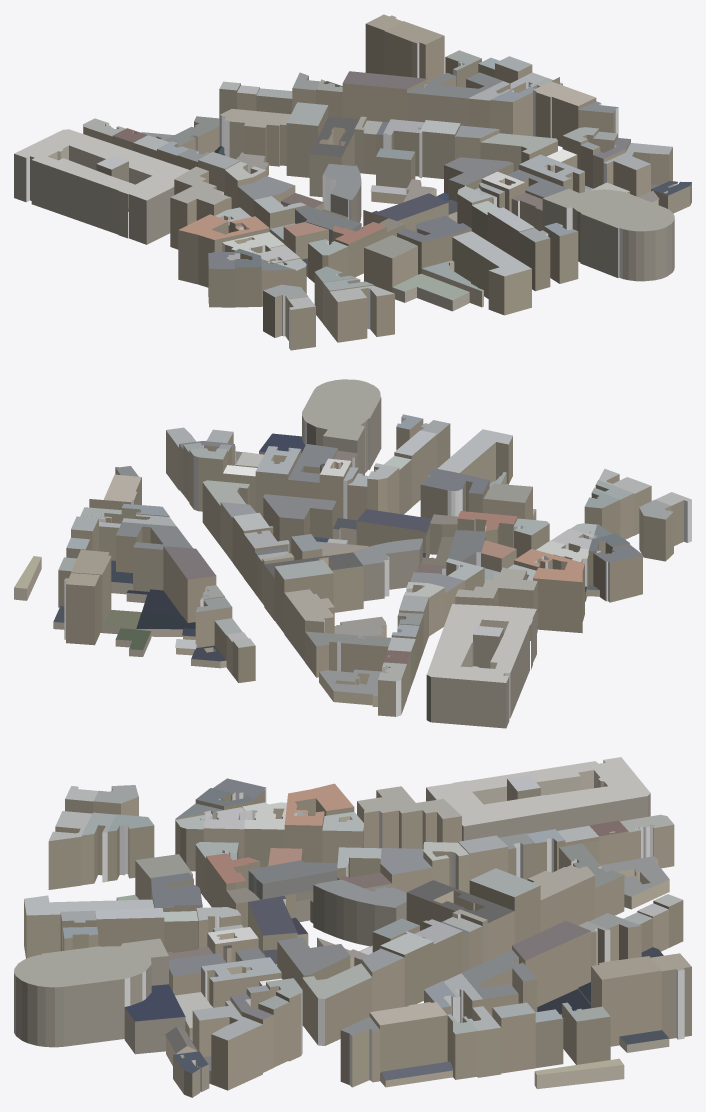
3 views of the same model, one above another, from view 1: azimuth 30°, elevation 25°; view 2: azimuth 150°, elevation 25°; view 3: azimuth 270°, elevation 25° (orthographic). The views are drawn at different scales.
Visible parts, largest first — view 1: tuile; view 2: tuile; view 3: tuile.
Part boxes in pixels (x1=…): tuile: x1=14, y1=14, x2=691, y2=350; tuile: x1=14, y1=379, x2=691, y2=728; tuile: x1=14, y1=757, x2=691, y2=1097.
Size of the model in its own units: 285 by 38.51 by 279.
